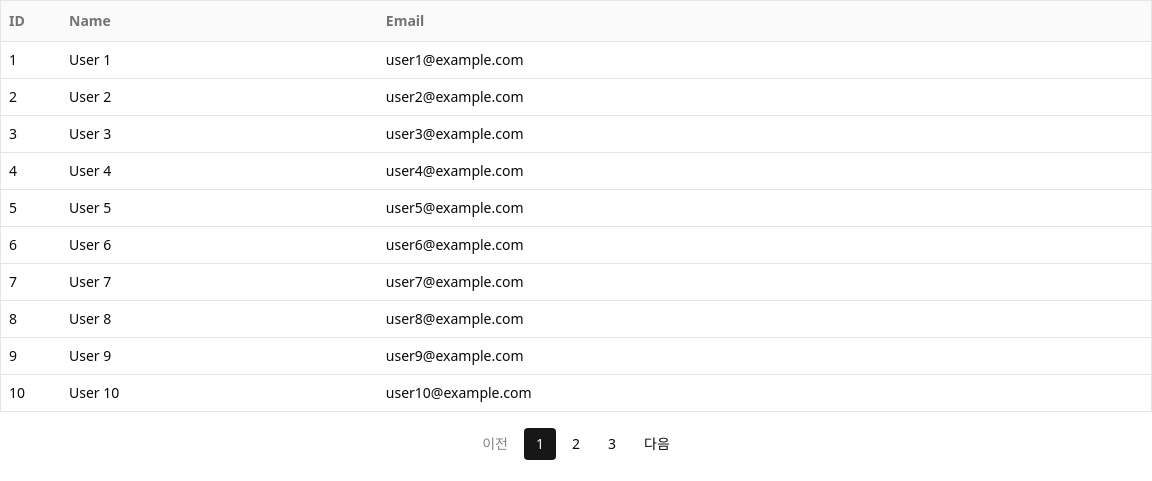
Test: DataTable › 다음 페이지로 이동할 수 있다
Expected: the text "User 1" is shown, [61,41,378,78]
Click the button "다음" at x=657, y=444, box [632,428,682,460]
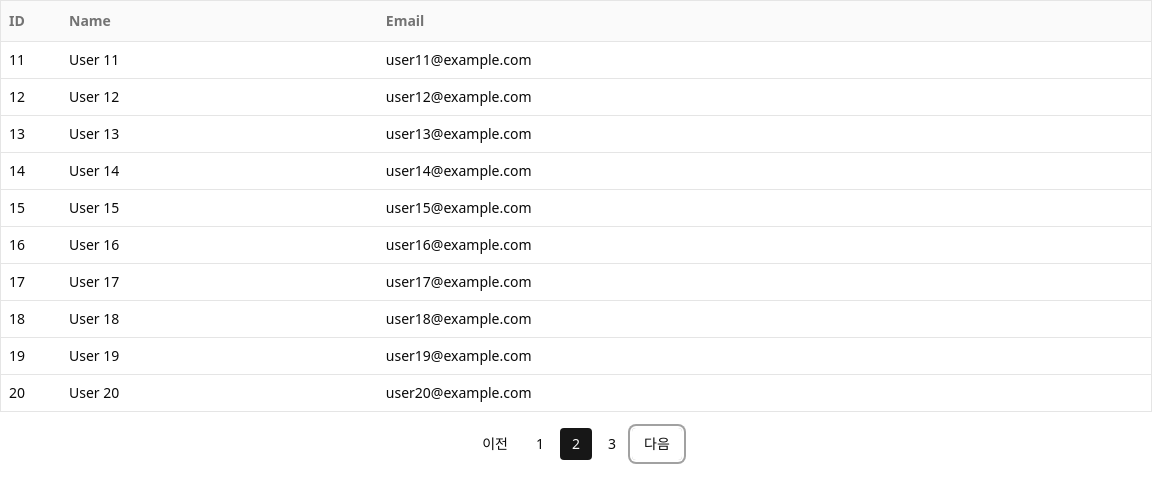
Now the text "User 11" is shown, box [61,41,378,78]
